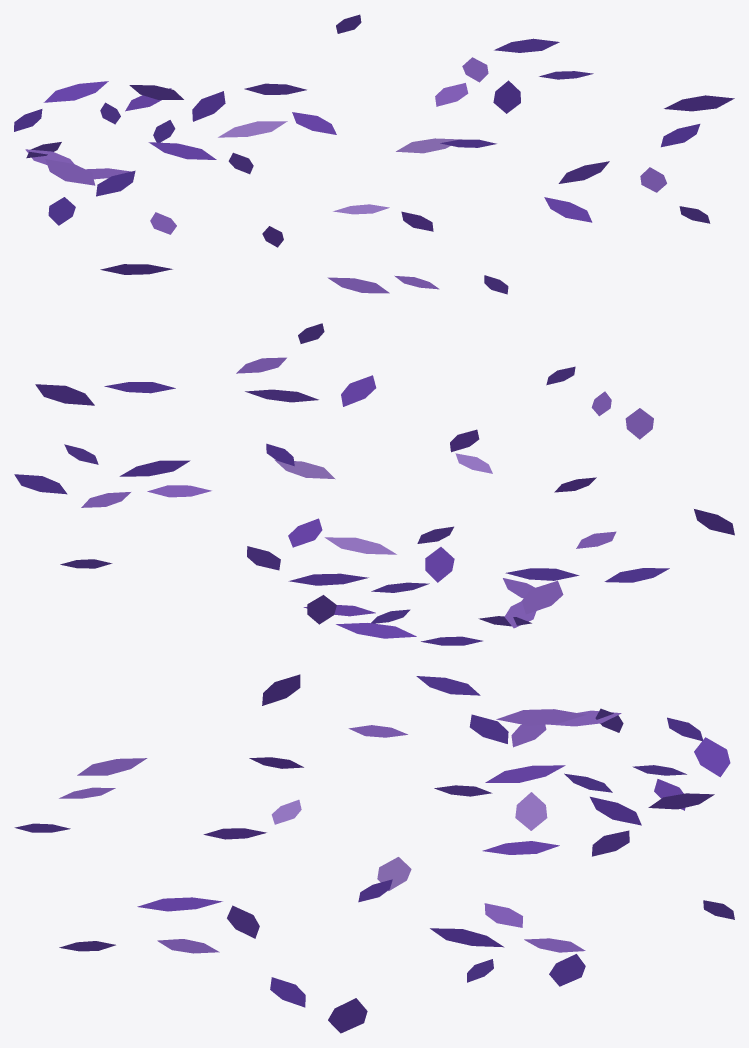
File: arcane-leaves-b.glb
3 views of the same model, one above another, from view 1: azimuth 30°, elevation 25°; view 2: azimuth 150°, elevation 25°; view 3: azimuth 270°, elevation 25° (orthographic). The views are drawn at different scales.
Visible parts, largest first — view 1: arcane-leaves-b; view 2: arcane-leaves-b; view 3: arcane-leaves-b.
Boxes of the visible parts, <box> form: arcane-leaves-b: <box>14,14,734,294</box>; arcane-leaves-b: <box>14,323,734,645</box>; arcane-leaves-b: <box>14,674,734,1033</box>.
Bounding box in the file's own units: 0.8896 × 0.0102 × 0.7572.
